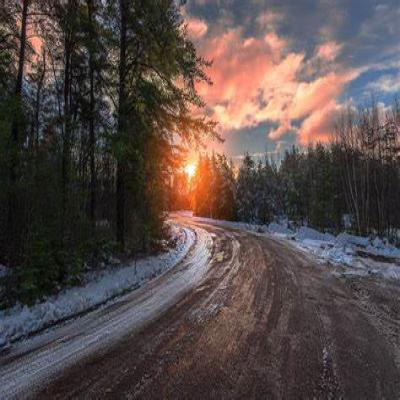iced-road: (0, 218, 400, 399)
